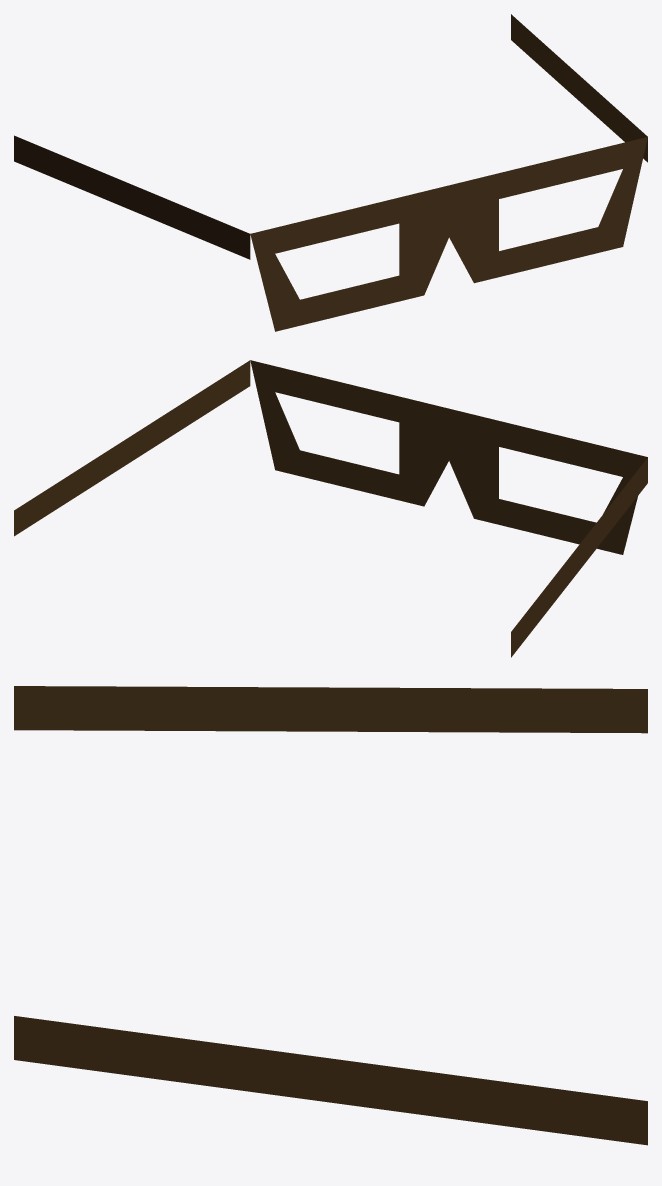
Rendered from model_137_npc_head.obj.
The picture shows the model from 3 angles, top to bottom: view 1: azimuth 30°, elevation 25°; view 2: azimuth 150°, elevation 25°; view 3: azimuth 270°, elevation 25°; orthographic projection. The views are drawn at different scales.
Visible parts, largest first — view 1: 137; view 2: 137; view 3: 137.
Part boxes in pixels (x1,y1,x2,y2): 137: (14, 14, 647, 331); 137: (14, 360, 647, 657); 137: (14, 686, 647, 1145).
Size of the model in its own units: 80 by 16 by 52.
